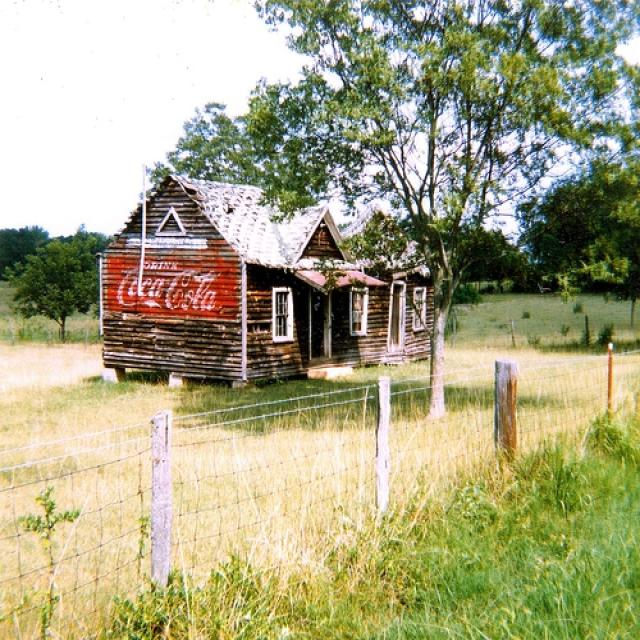cocacola: (110, 269, 234, 318)
